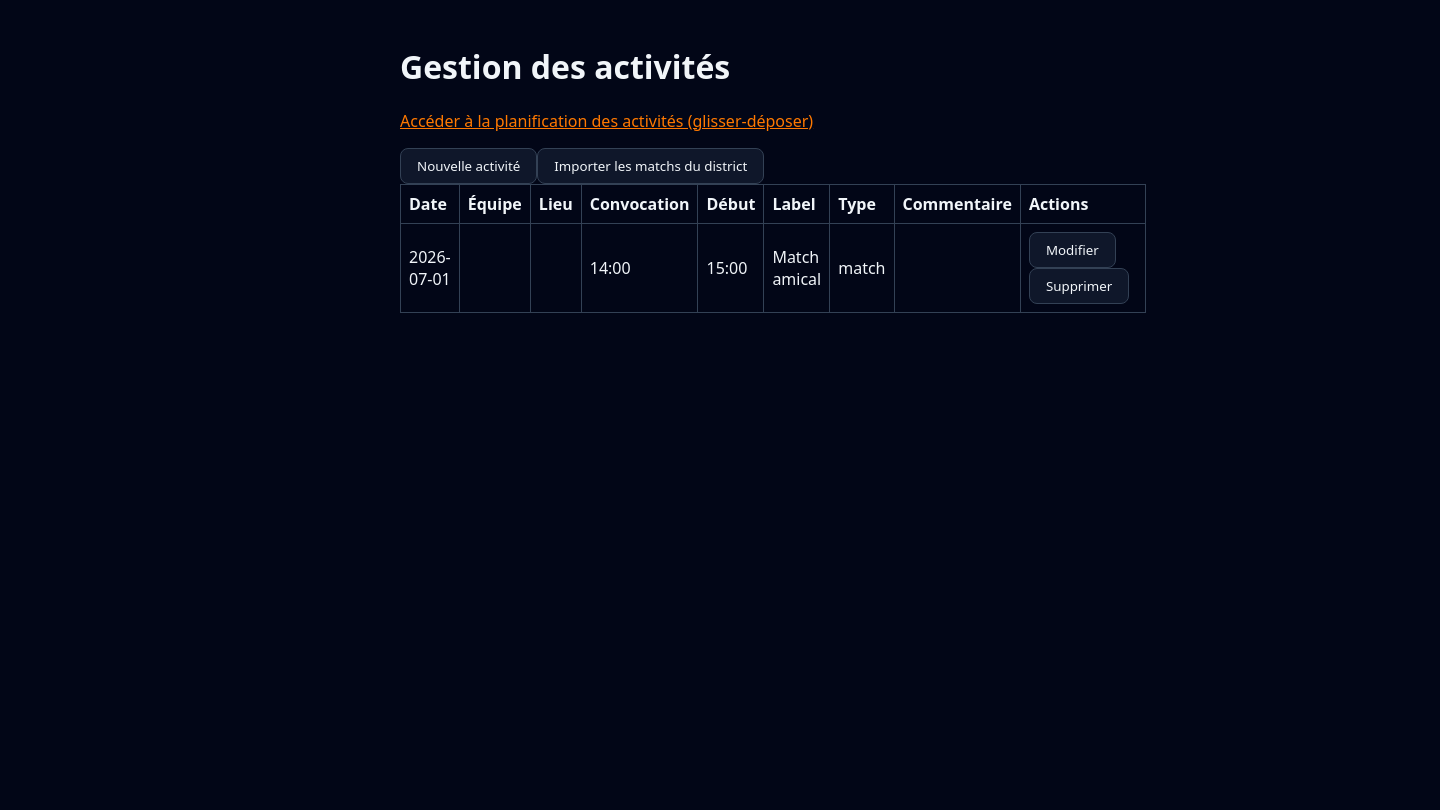
AdminActivitesPage › ouvre une confirmation quand on clique sur "Supprimer", sans appeler la mutation immédiatement
Click the button "Supprimer" at x=1079, y=286, box [1029, 268, 1129, 304]
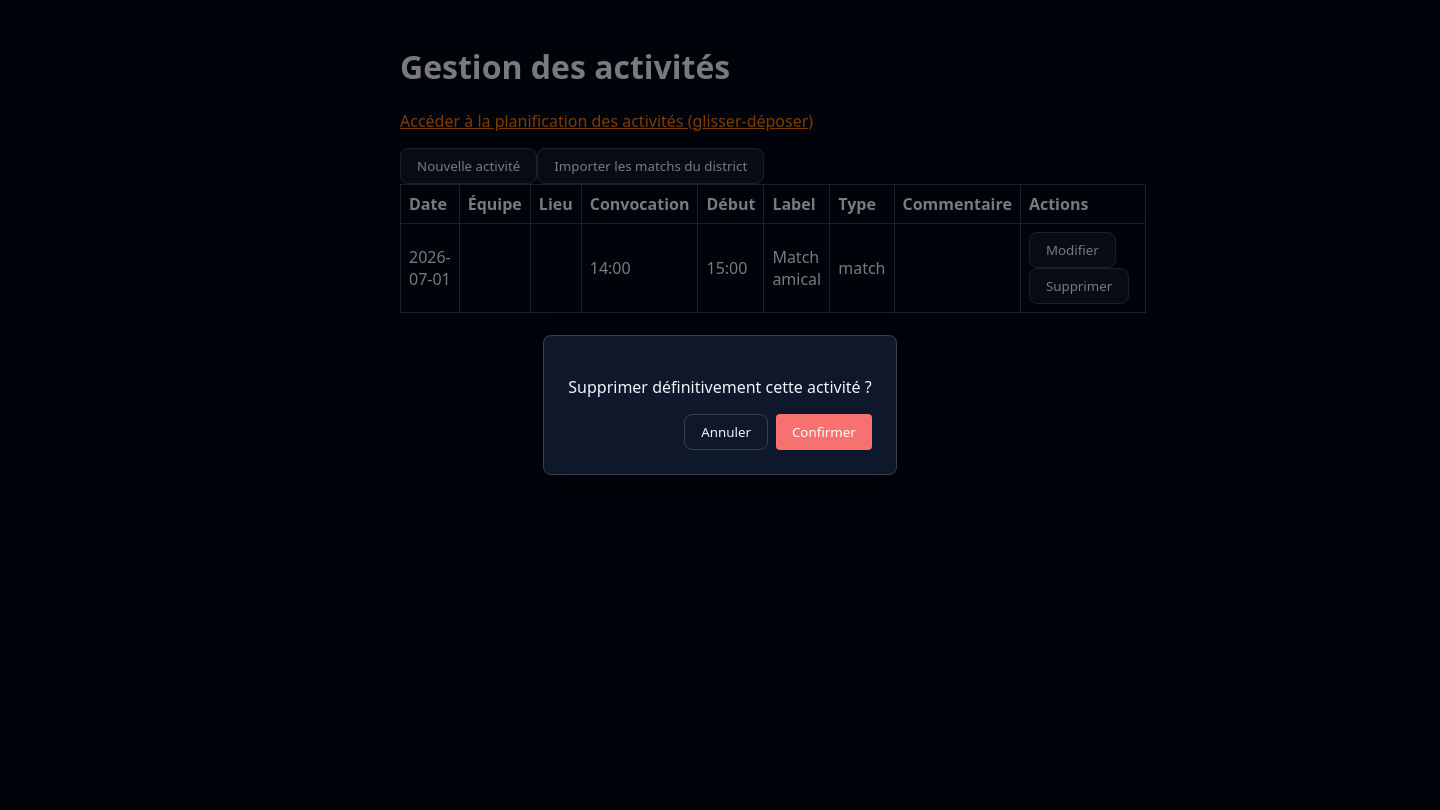
Expected: the dialog is shown, [543, 335, 897, 475]
